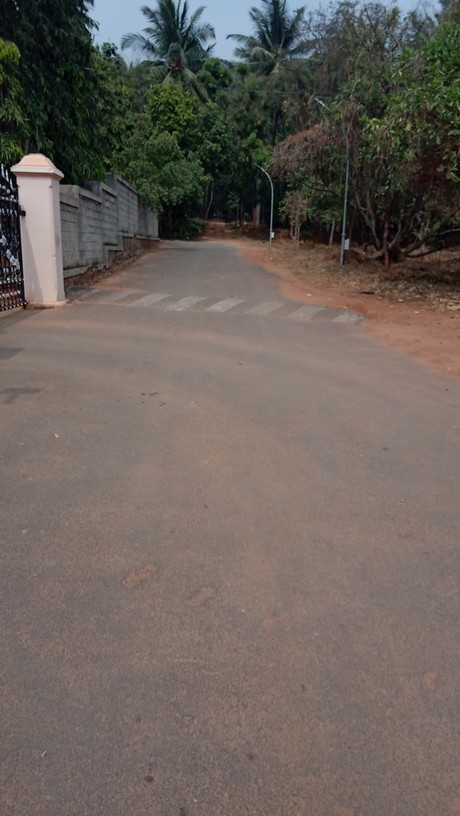bump: (66, 280, 366, 336)
